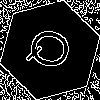Q: (25, 25, 82, 75)
